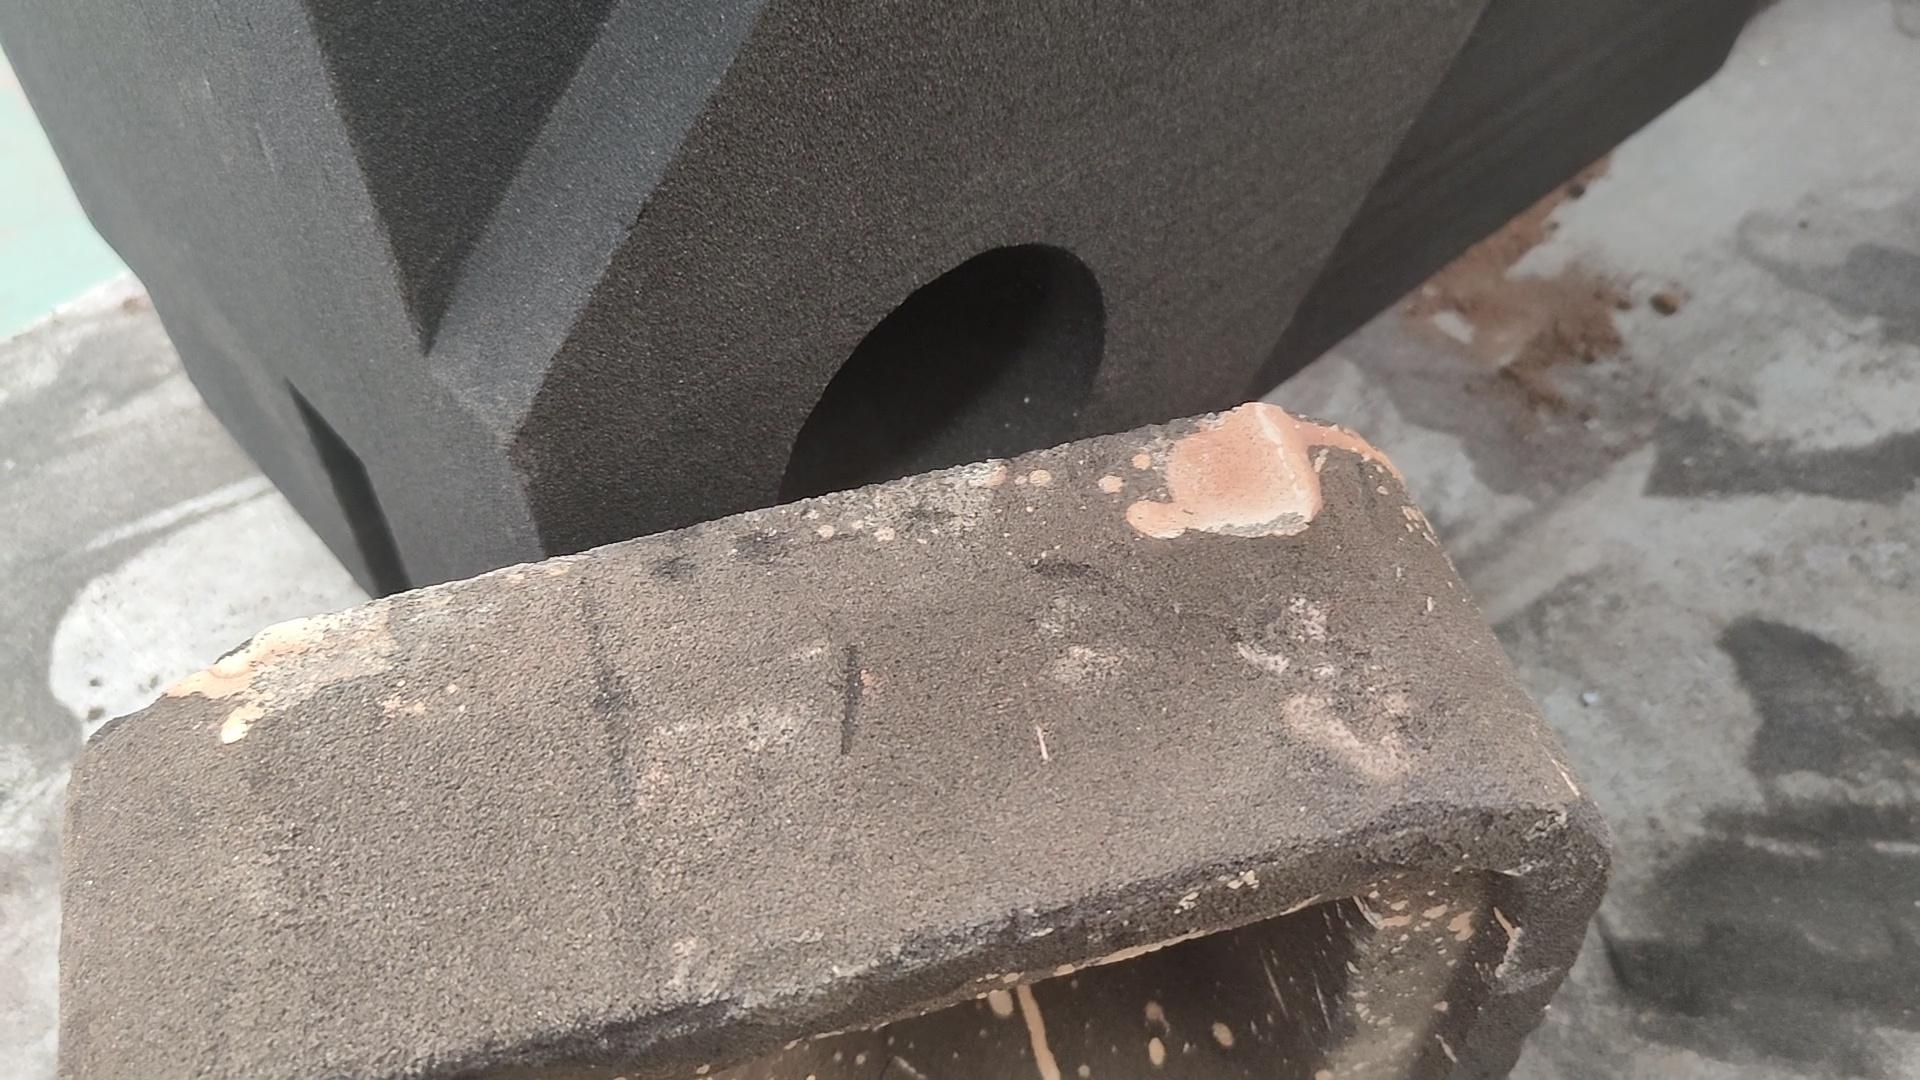pouring hole: (778, 243, 1106, 527)
